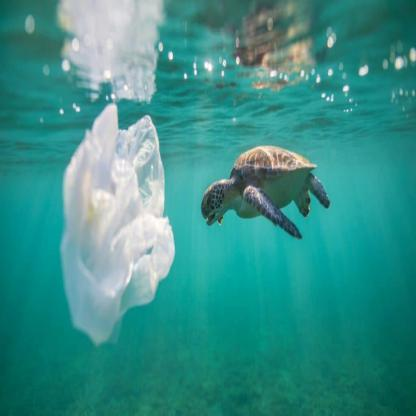waste: (63, 100, 176, 342)
